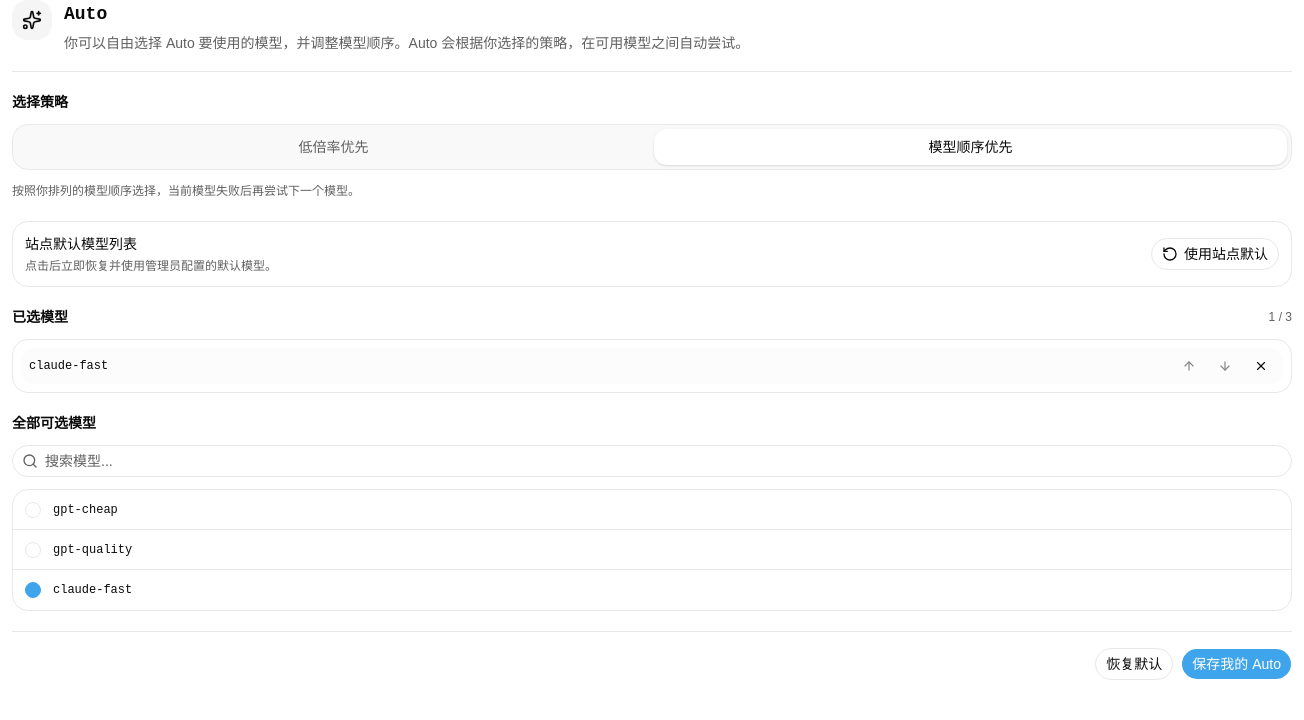
Test: Auto model configurator › applies the site default models immediately from a button
Click the button "使用站点默认": [1215, 254] box 1151,238 -> 1279,270
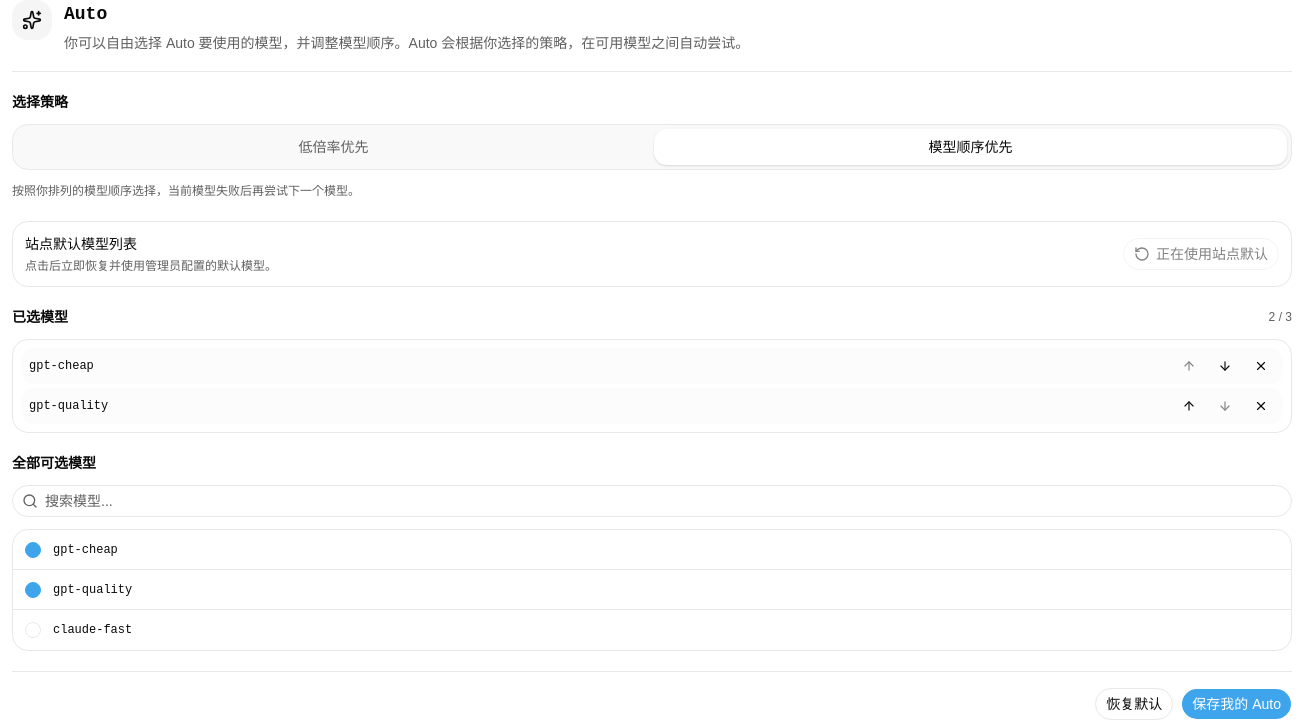
Expected: the button "正在使用站点默认" is disabled, 1123,238 -> 1279,270
